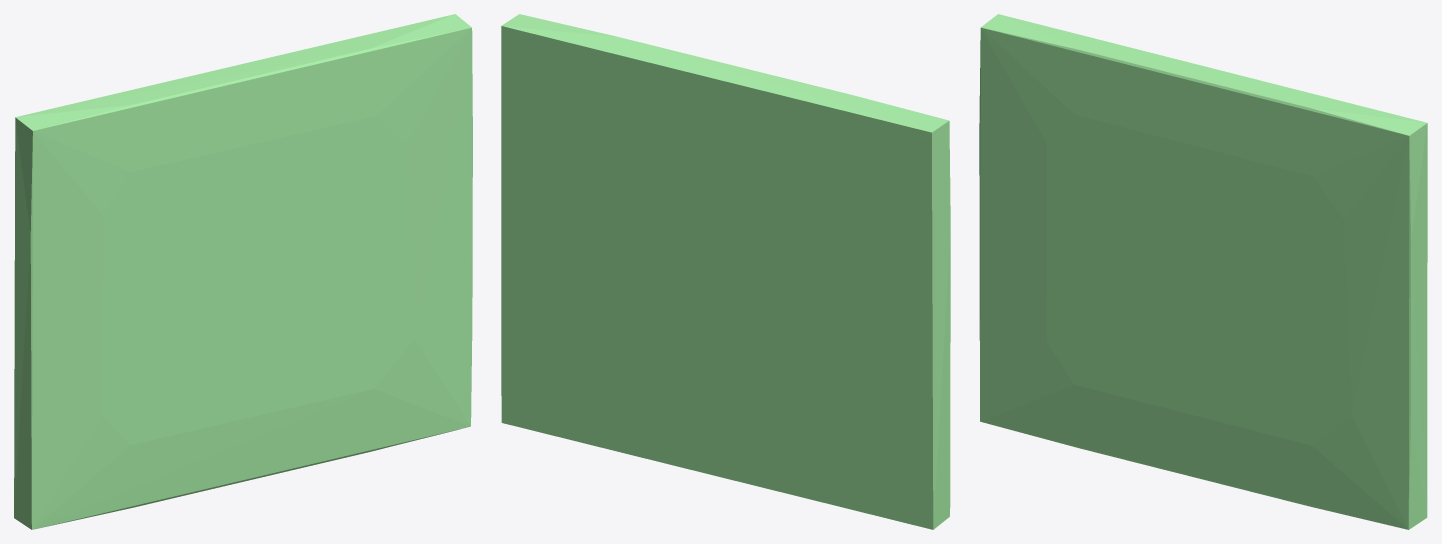
Rendered from panda_rightFinger_coll_2.dae.
The picture shows the model from 3 angles, left to right: view 1: azimuth 30°, elevation 25°; view 2: azimuth 150°, elevation 25°; view 3: azimuth 330°, elevation 25°; orthographic projection.
Parts seen in each view (by area): view 1: node; view 2: node; view 3: node.
Boxes of the visible parts, x1,y1,x2,y2 form: node: (14,14,472,529); node: (501,14,950,529); node: (979,14,1427,529).
Bounding box in the file's own units: 0.0239 × 0.021 × 0.00198.
